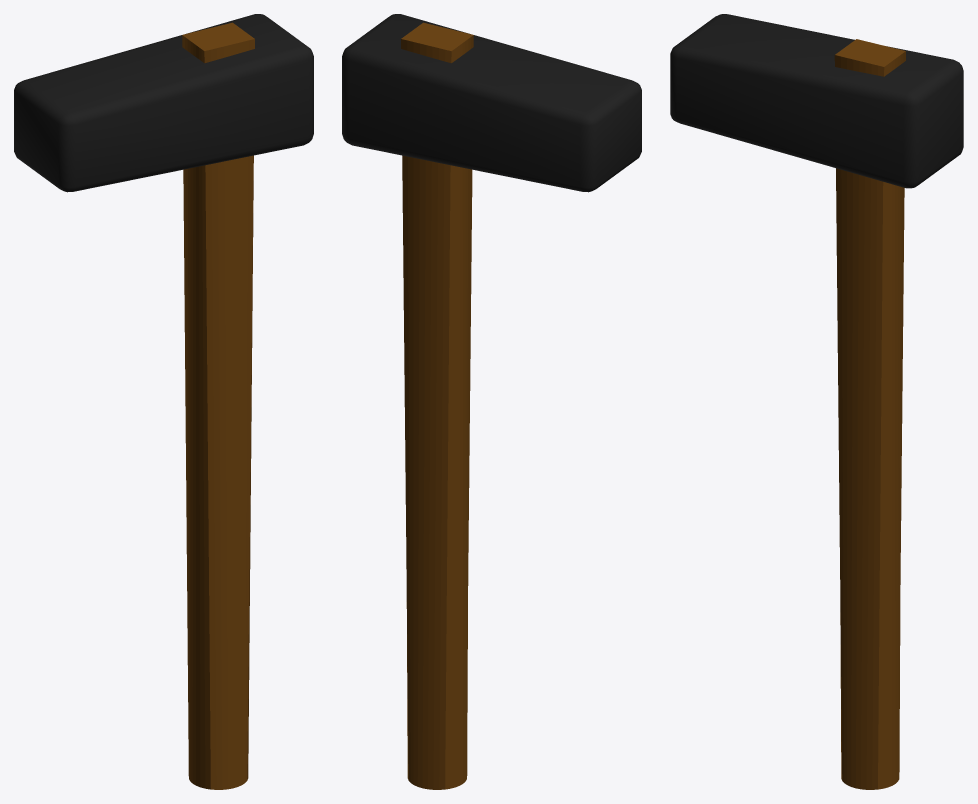
File: hammer2.fbx
The picture shows the model from 3 angles, left to right: view 1: azimuth 30°, elevation 25°; view 2: azimuth 150°, elevation 25°; view 3: azimuth 330°, elevation 25°; orthographic projection. The views are drawn at different scales.
Visible parts, largest first — view 1: 立方体; view 2: 立方体; view 3: 立方体.
Part boxes in pixels (x1,y1,x2,y2): 立方体: [14, 14, 313, 789]; 立方体: [342, 14, 641, 789]; 立方体: [670, 14, 963, 789].
Bounding box in the file's own units: 394 × 1098 × 146.
